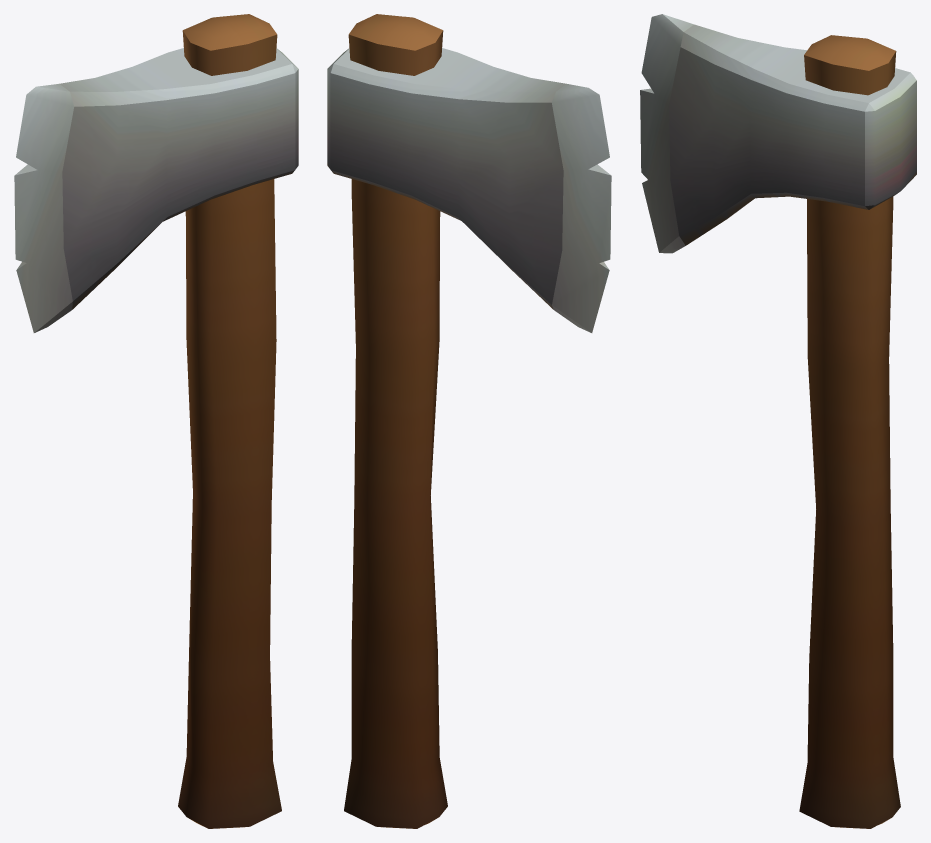
The model's file is Axe_02.glb.
3 views of the same model, side by side, from view 1: azimuth 30°, elevation 25°; view 2: azimuth 150°, elevation 25°; view 3: azimuth 330°, elevation 25° (orthographic). The views are drawn at different scales.
Parts seen in each view (by area): view 1: Axe_02; view 2: Axe_02; view 3: Axe_02.
Part boxes in pixels (x1=…): Axe_02: x1=14, y1=14, x2=298, y2=828; Axe_02: x1=327, y1=14, x2=611, y2=828; Axe_02: x1=640, y1=14, x2=916, y2=828.
Size of the model in its own units: 0.3624 by 1.03 by 0.1256.
1 material, 1 textured.
